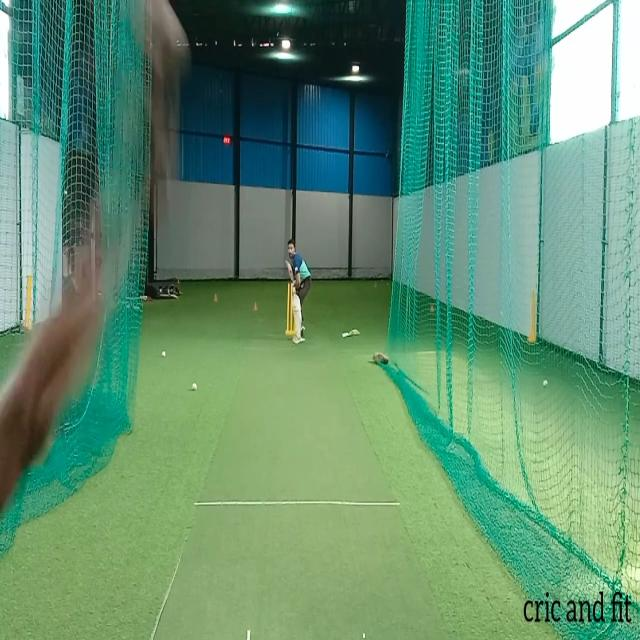batsman: (285, 237, 311, 346)
